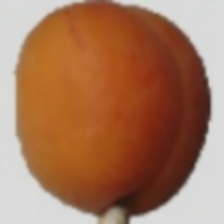apricot: (13, 46, 169, 194)
